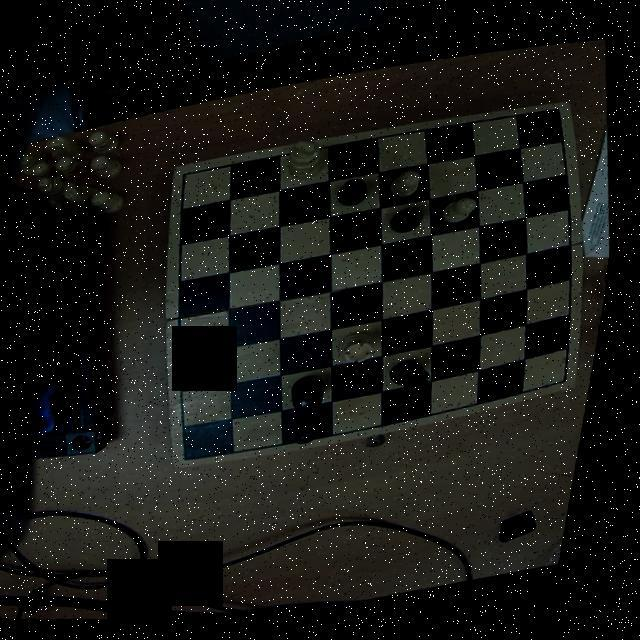chess-table-corners: (182, 444, 214, 473), (172, 167, 202, 194), (541, 106, 574, 130), (560, 373, 586, 398)
